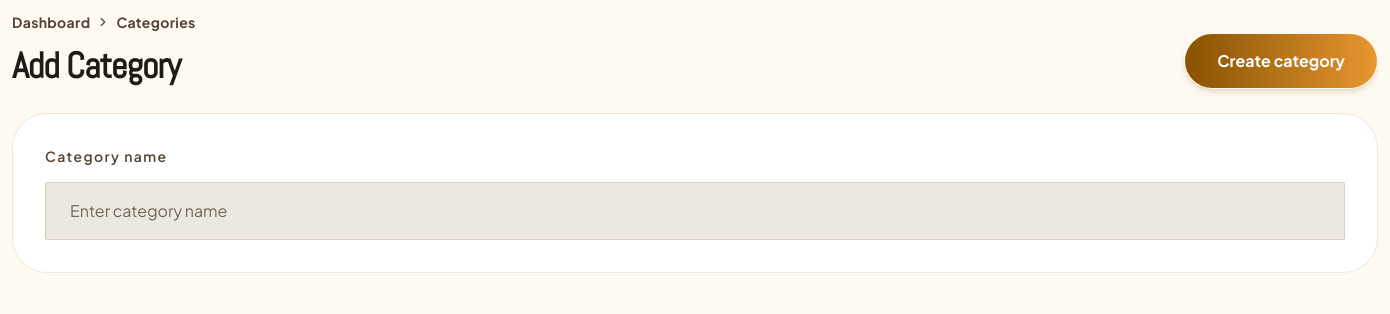
Scenario: CategoryForm › clears the name error when the name changes
The width and height of the screenshot is (1390, 314).
Type "Espresso" into the field labelled "Category name" at (695, 211), box [45,182,1345,240]
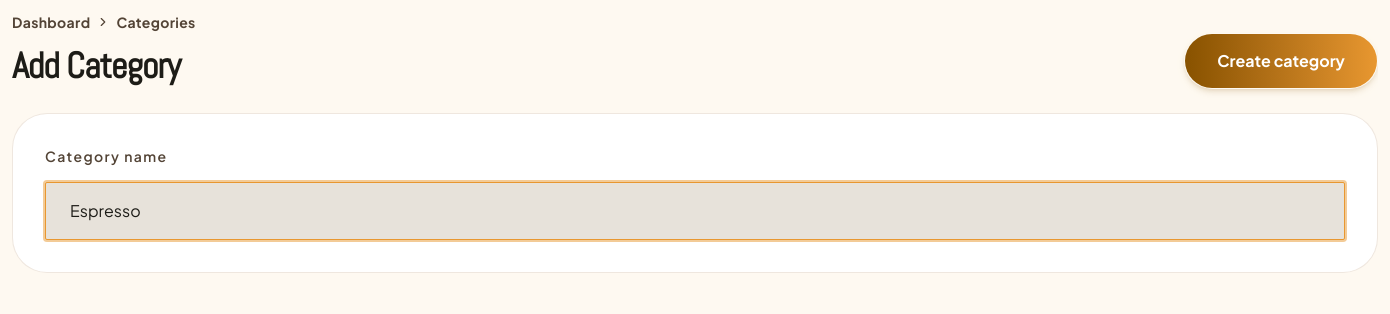
Click the button "Create category" at (1281, 61), box [1184,33,1378,89]
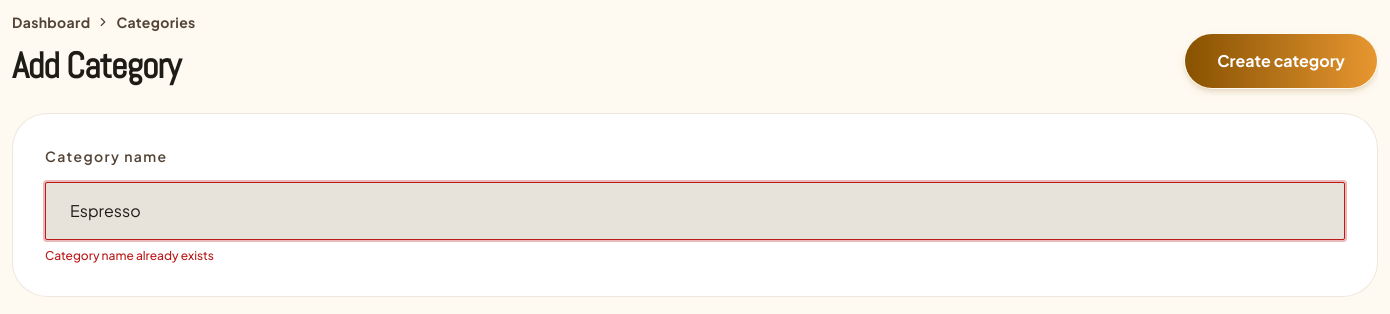
Now the text "Category name already exists" is shown, box [45,248,214,263]
Type "X" into the field labelled "Category name" at (695, 211), box [45,182,1345,240]
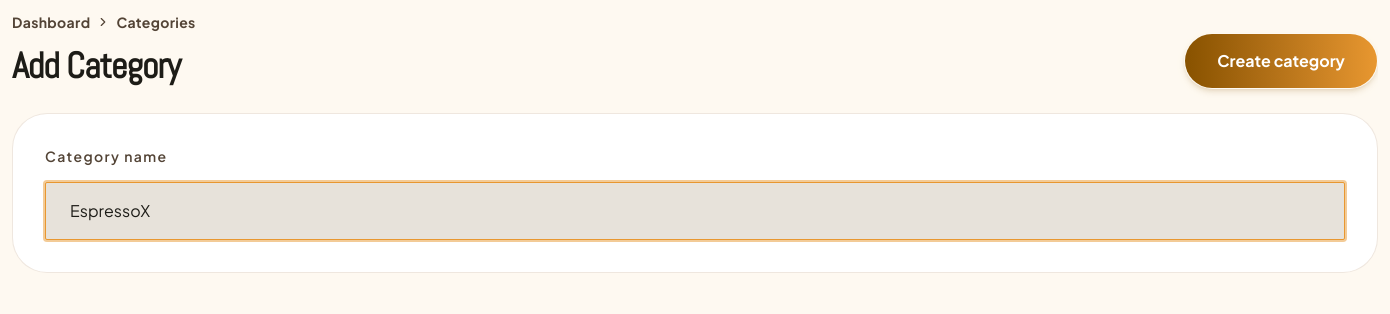
Now the text "Category name already exists" is gone
